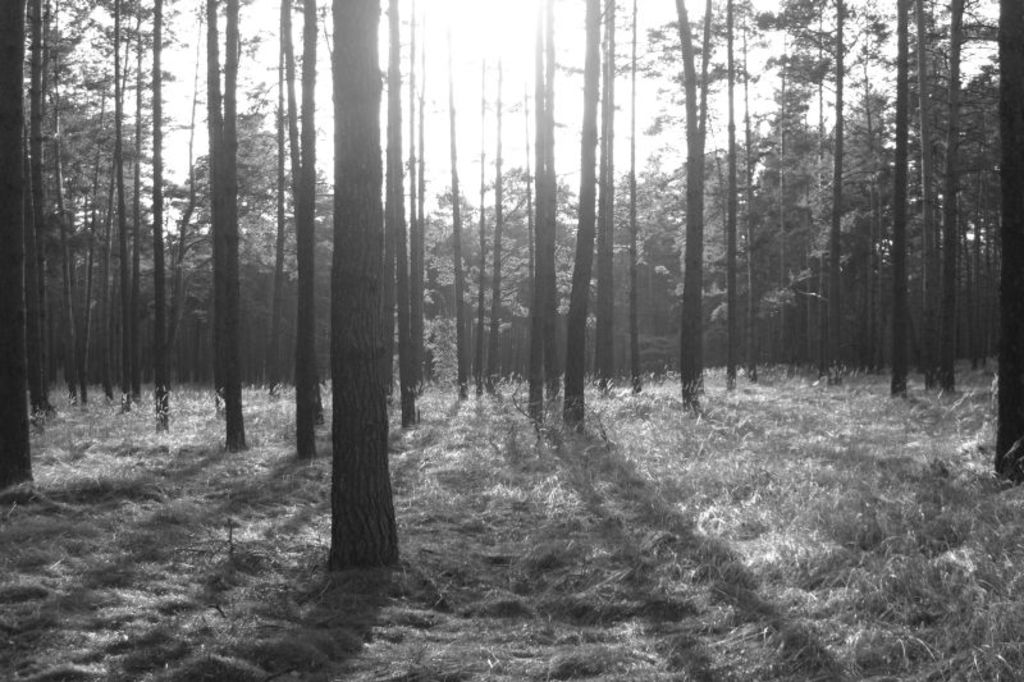Tree: (445, 0, 1022, 487), (184, 29, 444, 554), (0, 0, 175, 496)
